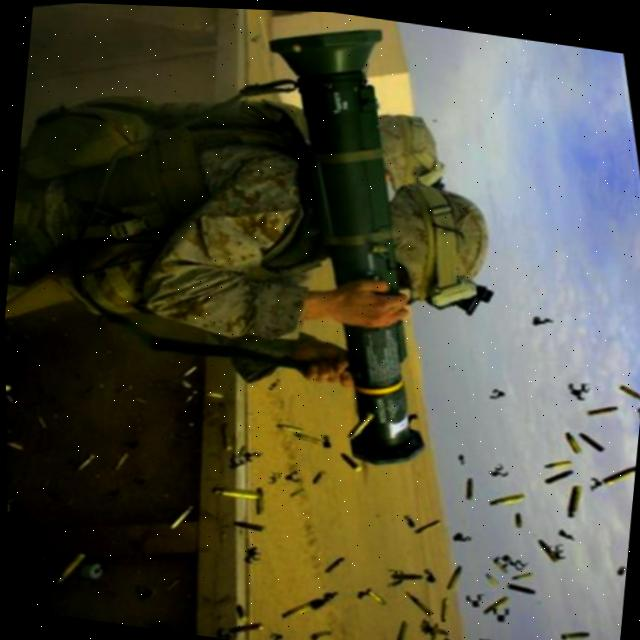rocket: (214, 6, 499, 482)
